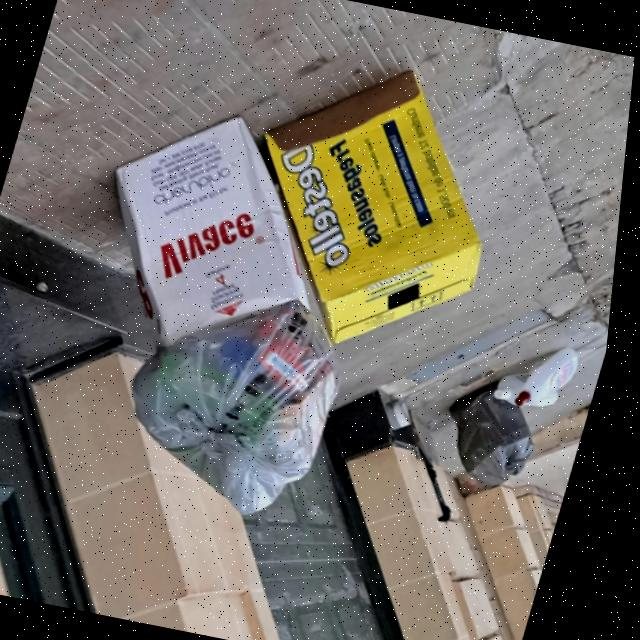Mixed Waste -Black Bag-: (443, 377, 560, 492)
Other: (215, 45, 538, 369), (70, 93, 366, 382), (496, 334, 592, 418)
Recycled Waste -Grey or Green Bag-: (112, 277, 372, 525)
